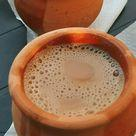Chai: (24, 44, 125, 118)
